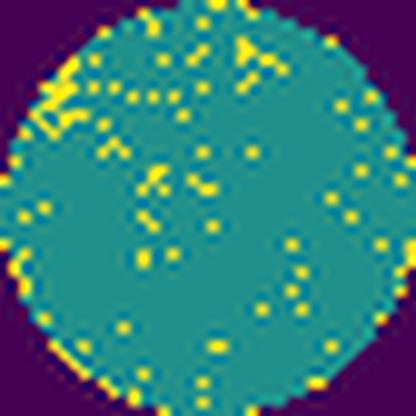Edge-Loc: (29, 54, 94, 140)
